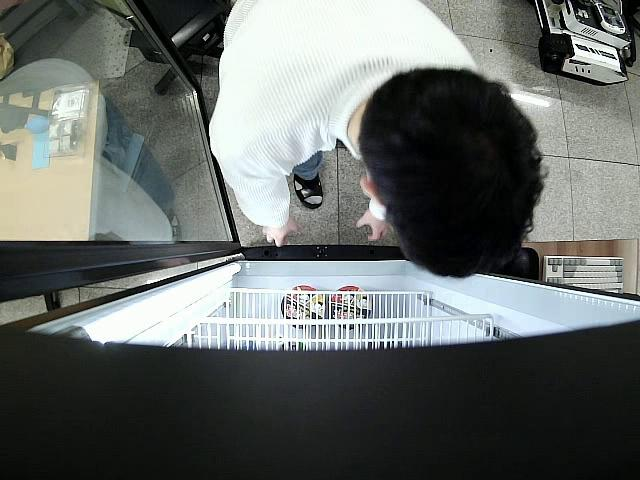00_hand: (261, 215, 301, 255), (358, 209, 393, 244)
